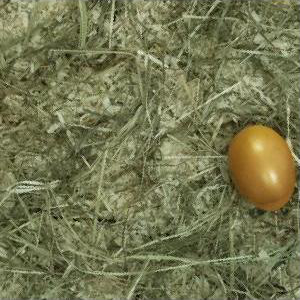egg: (228, 124, 297, 213)
